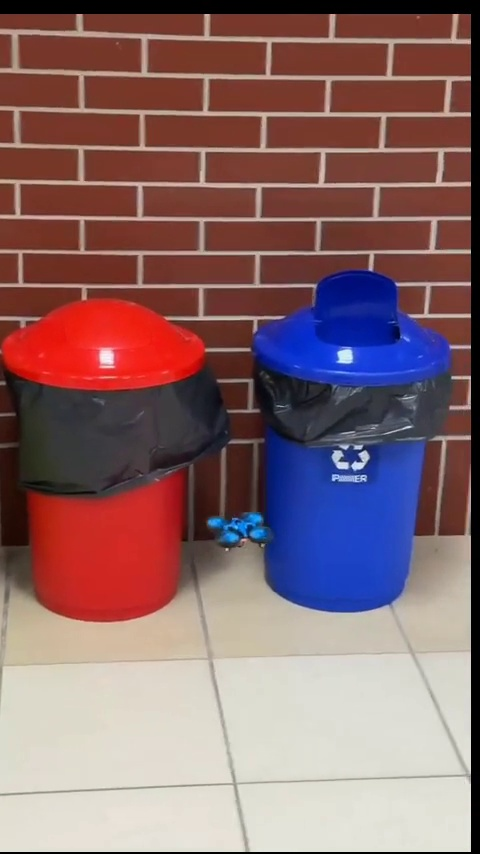drone: (204, 507, 272, 549)
